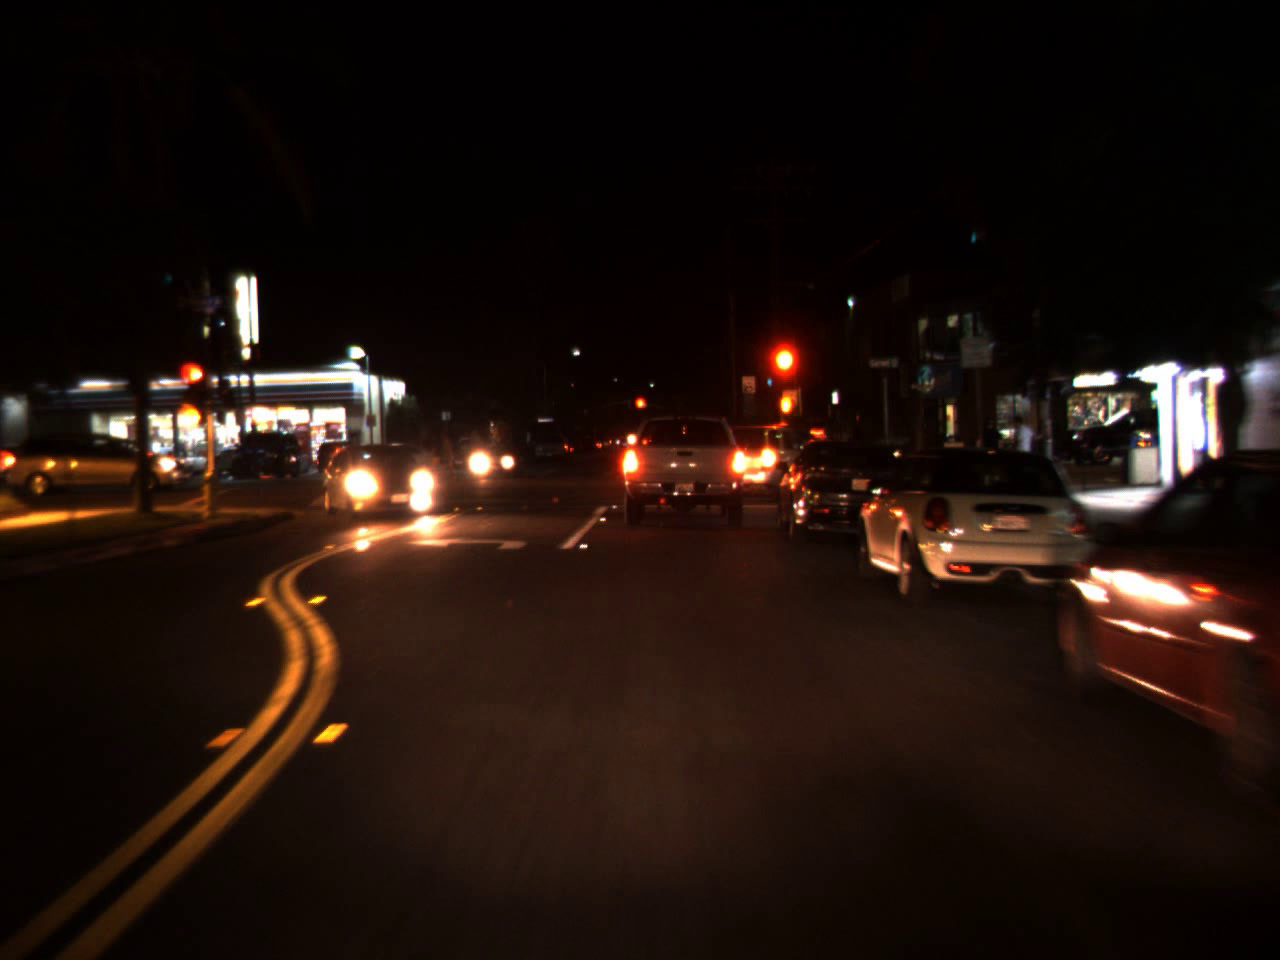stop: (767, 342, 795, 404), (176, 360, 207, 403), (633, 395, 648, 422)
